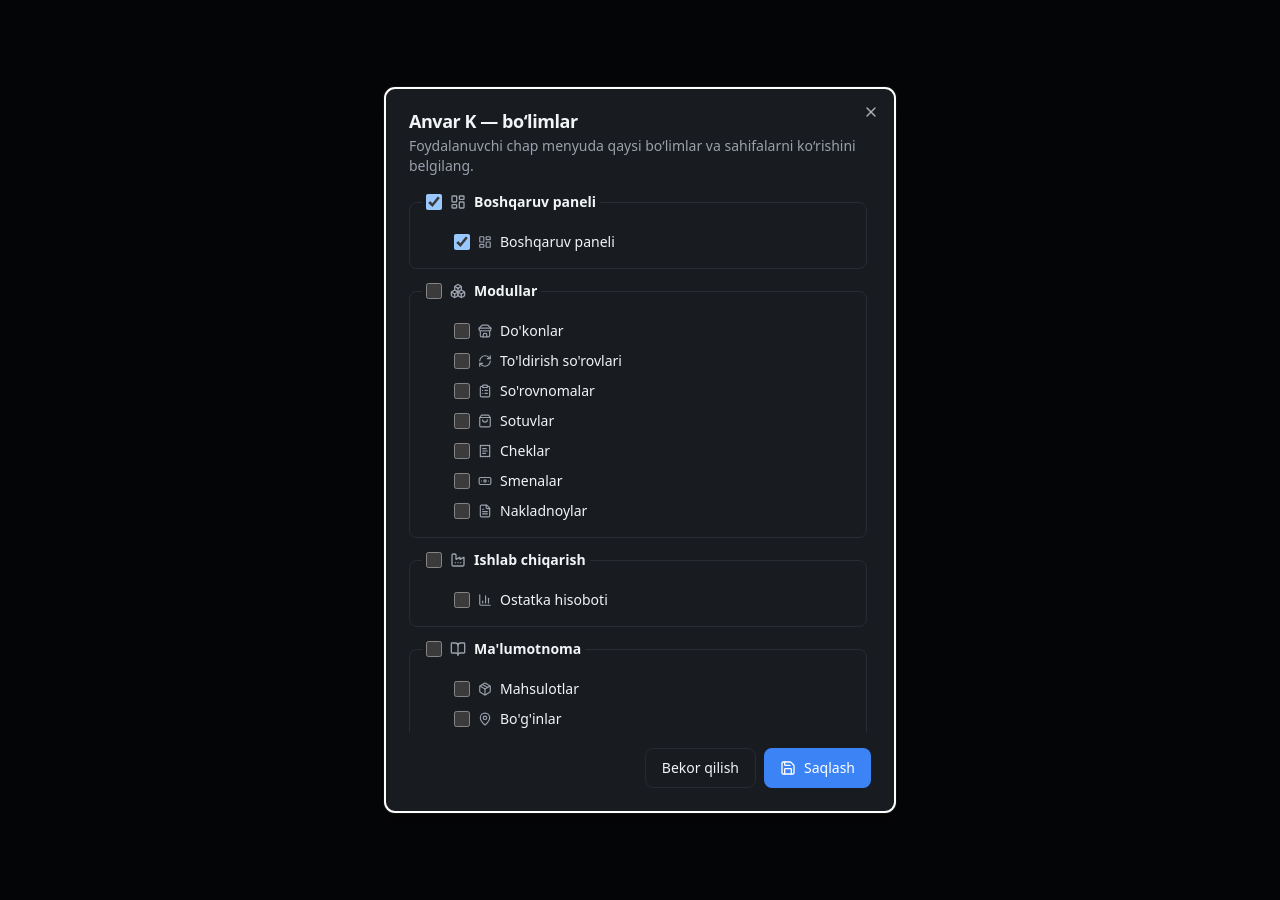
Test: EmployeeSectionsDialog › blocks saving with nothing ticked
Click the 2nd checkbox labelled "Boshqaruv paneli": click(462, 242) [454, 234, 470, 250]
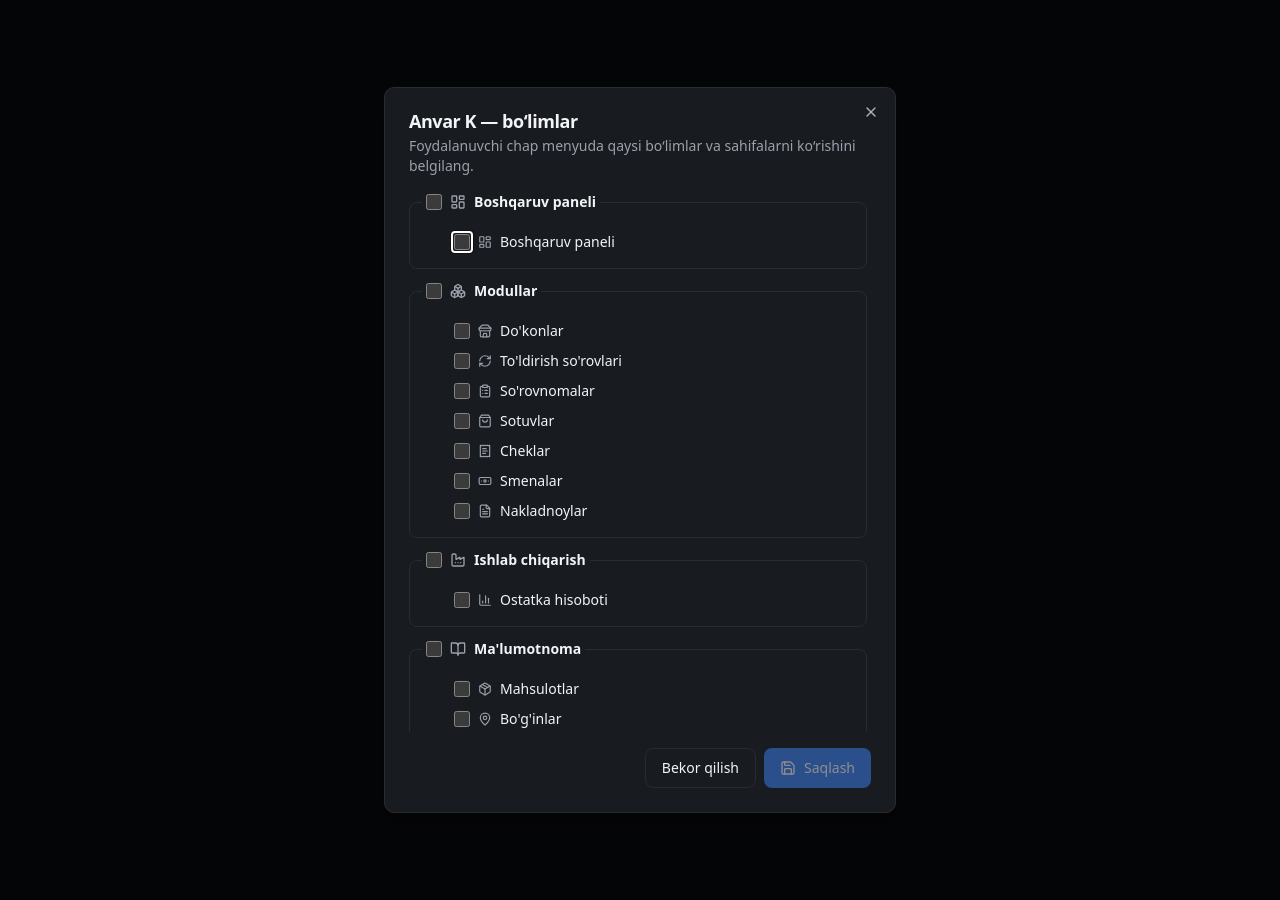
Check: the button "Saqlash" is disabled, box [764, 748, 871, 788]
